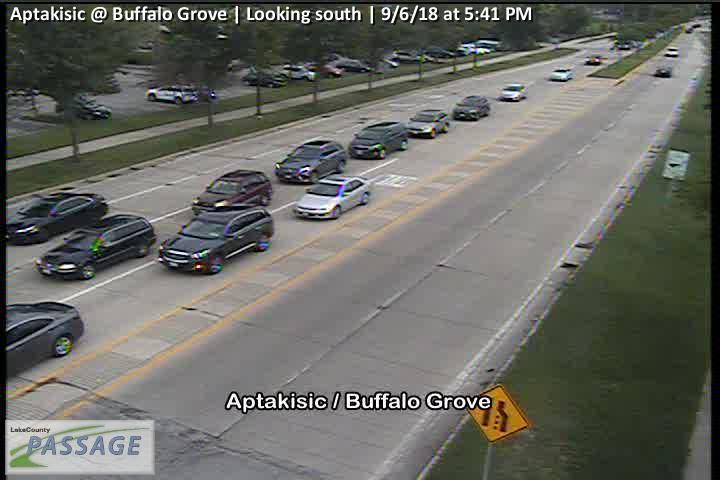SUV: (157, 204, 275, 274), (34, 213, 155, 281), (190, 169, 273, 214), (274, 140, 346, 183)
Sedan: (4, 302, 85, 381), (6, 192, 108, 245), (294, 175, 371, 219), (347, 121, 408, 159), (63, 96, 114, 120), (408, 109, 450, 137), (144, 84, 195, 102), (241, 69, 288, 87), (454, 96, 489, 120), (278, 63, 317, 80), (305, 62, 342, 78), (498, 83, 527, 100), (551, 69, 575, 82), (654, 63, 672, 75), (583, 54, 600, 63), (665, 46, 679, 56)
